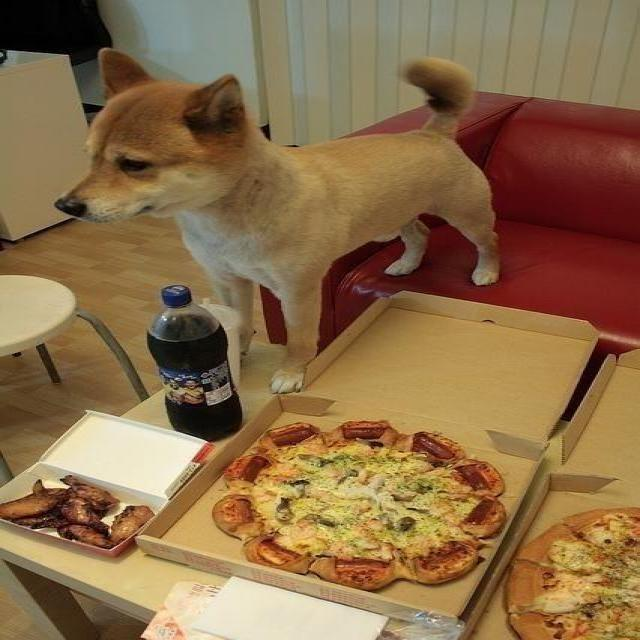bottle-plastic: (146, 284, 243, 444)
